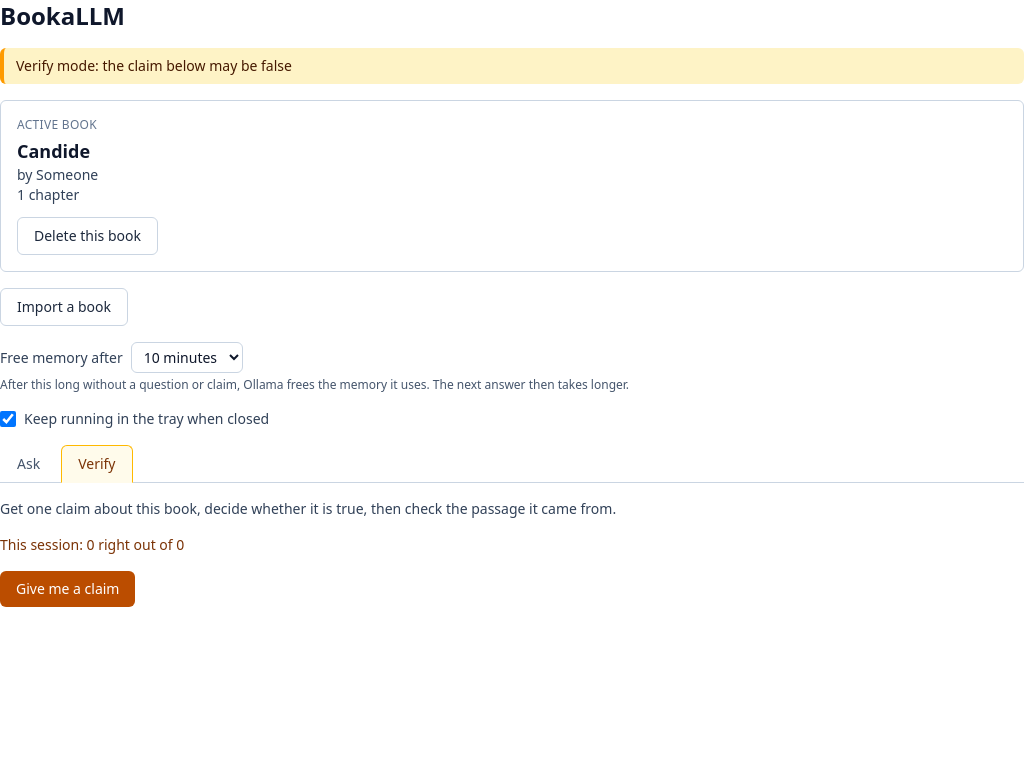
Test: Verify session › asks for a claim, judges it, and reveals the passage and tally
The width and height of the screenshot is (1024, 768).
Expected: the text "This session: 0 right out of 0" is shown, [0, 535, 184, 554]
Click the button "Give me a claim".
click(68, 589)  # box [0, 571, 136, 607]
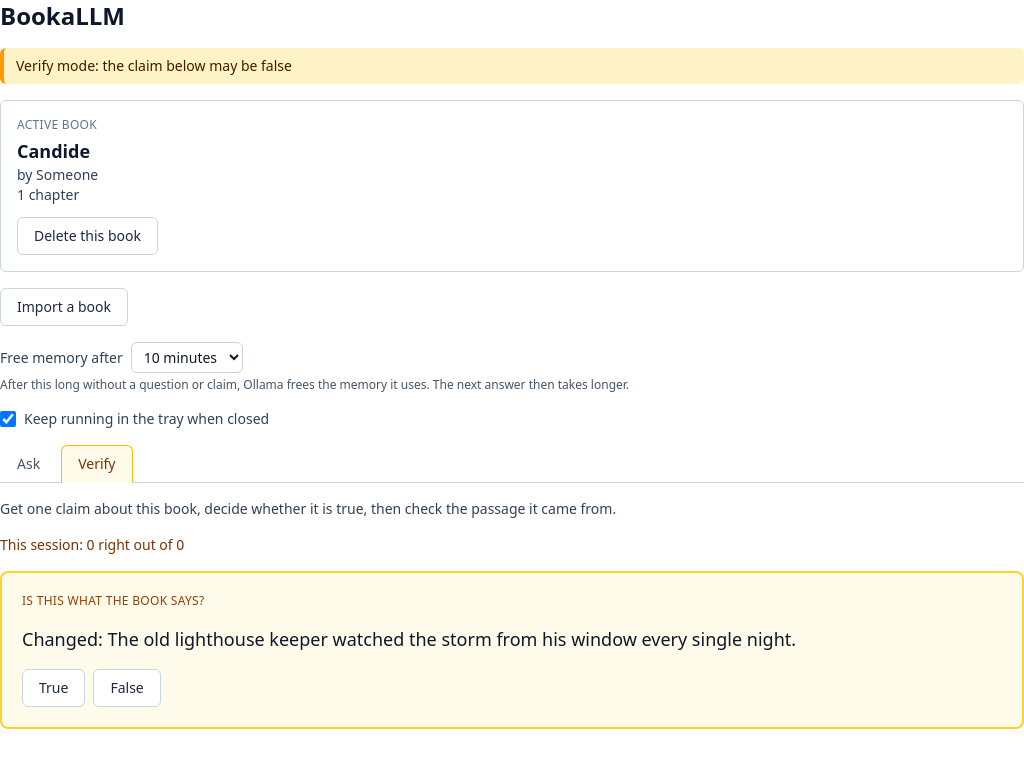
Expected: the text "From the book" is not shown
Now the text "Is this what the book says?" is shown, box [22, 592, 204, 609]
Now the text "Changed:" is shown, box [22, 627, 796, 651]
Click the button "False".
click(127, 688)  # box [93, 669, 161, 707]
(page scrolled)
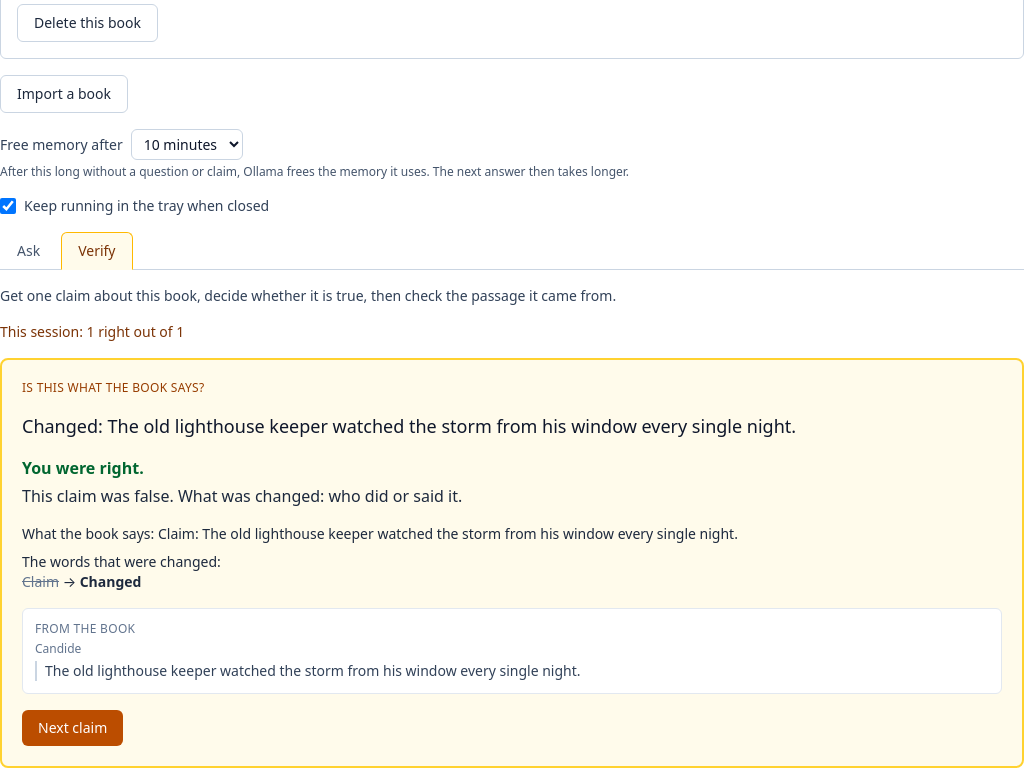
Now the text "You were right." is shown, box [22, 457, 144, 479]
Now the text "This claim was false. What was changed: who did or said it." is shown, box [22, 485, 462, 507]
Now the text "What the book says:" is shown, box [22, 524, 154, 543]
